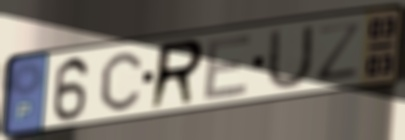6: (53, 54, 93, 123)
C: (98, 50, 144, 113)
E: (201, 31, 255, 103)
R: (146, 36, 207, 114)
U: (263, 21, 317, 94)
Z: (316, 19, 366, 85)
